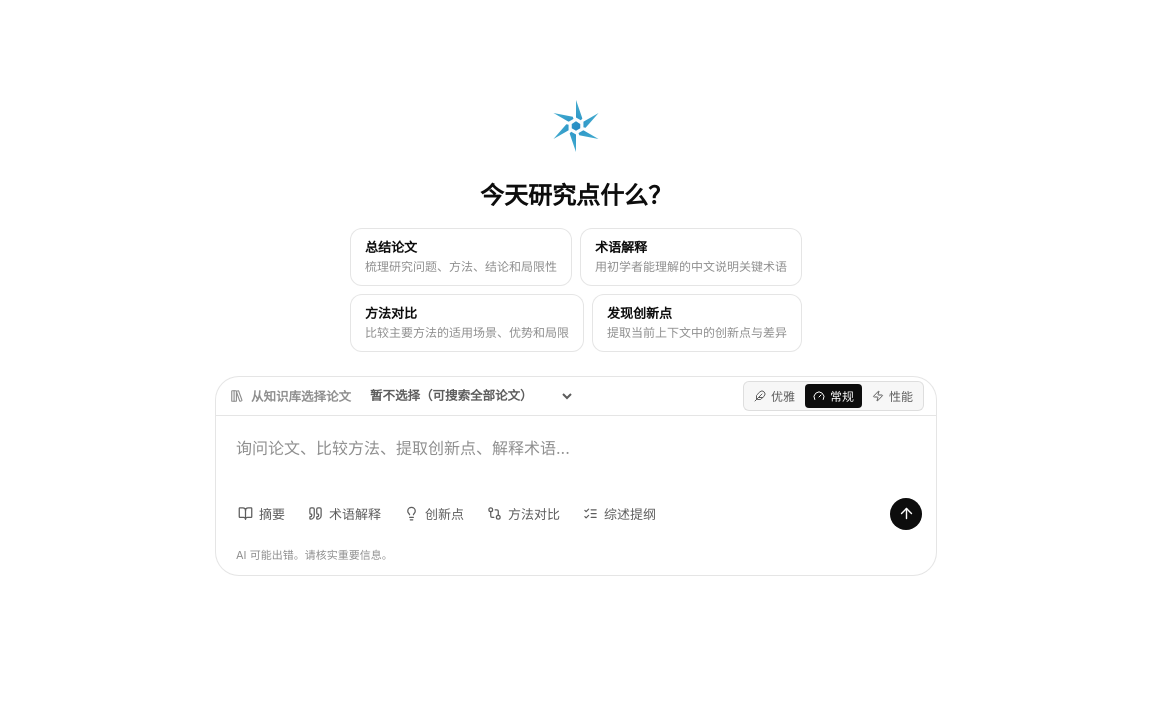
ChatPage › shows a retrieval notice when an assistant answer has no citations
Step 1. Type "总结 RAG 的核心思路" into the text box with placeholder "询问论文、比较方法、提取创新点、解释术语..." → (576, 457), box [216,416,936,498]
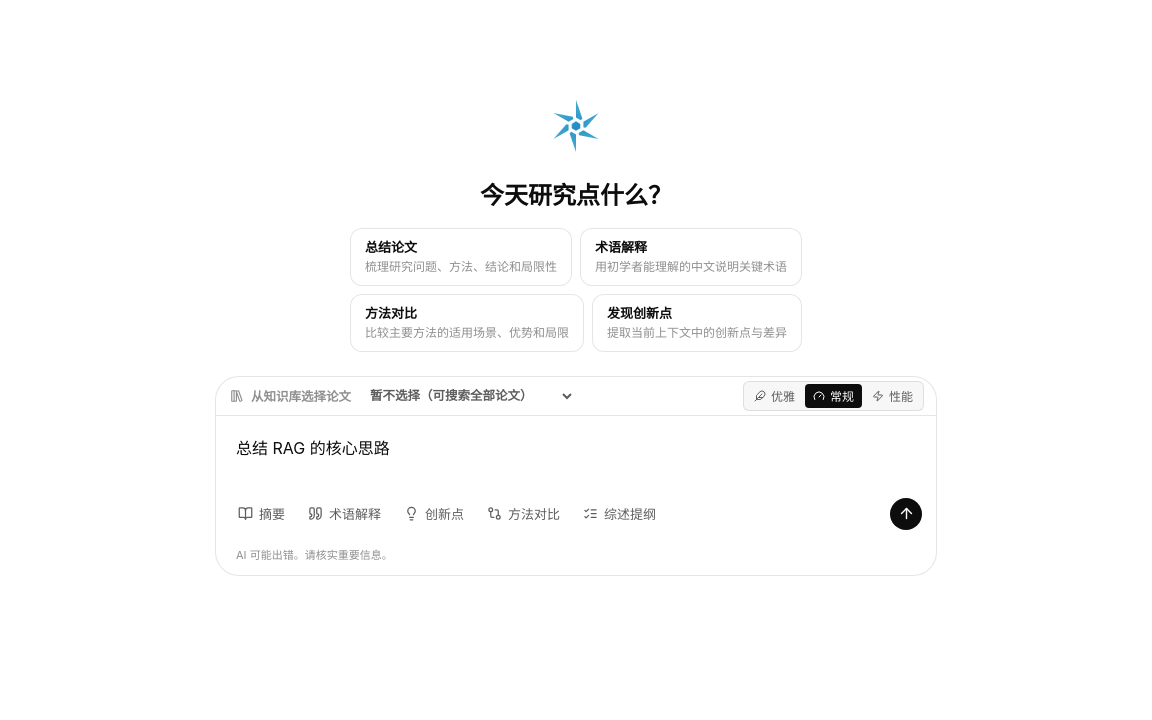
Step 2. Click the button named "发送" → click(906, 514), box [890,498,922,530]
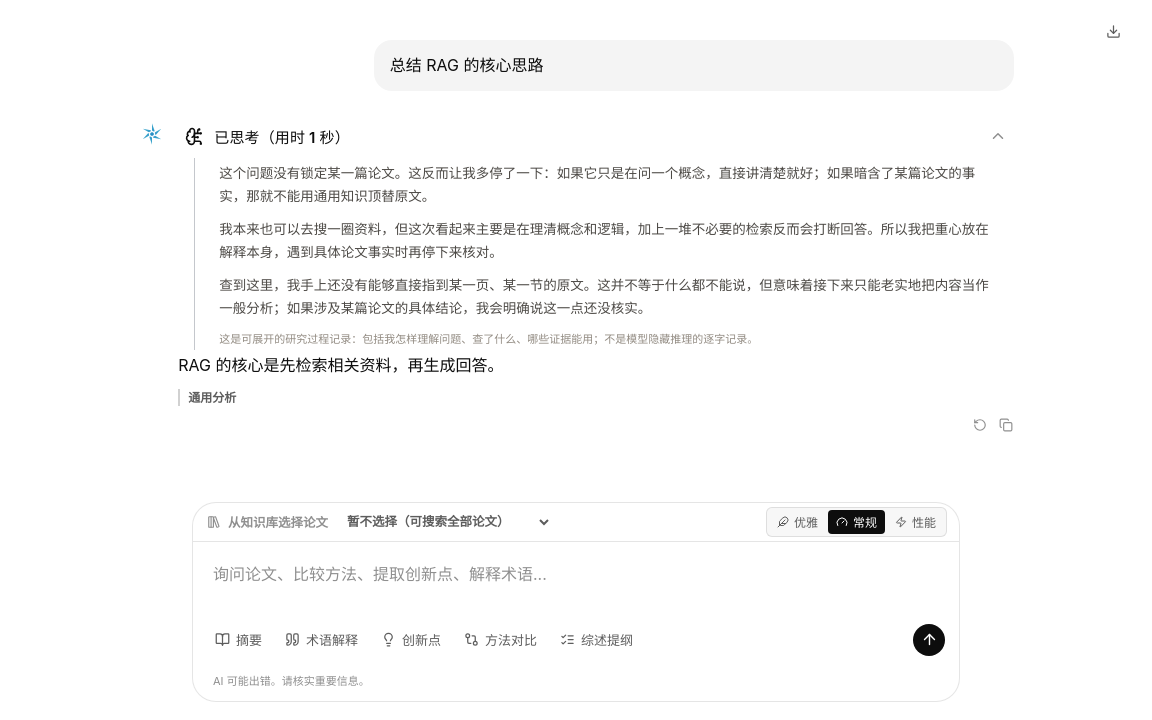
Result: the text "RAG 的核心是先检索相关资料，再生成回答。" is shown at [178,355,503,375]
Result: the text "通用分析" is shown at [188,389,236,406]
